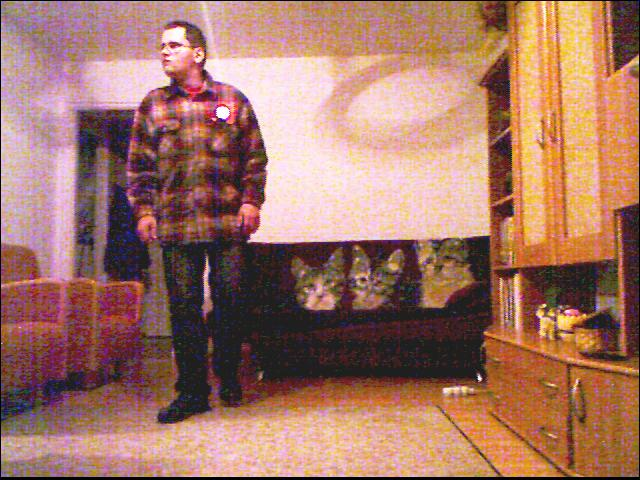standing: (107, 17, 285, 436)
